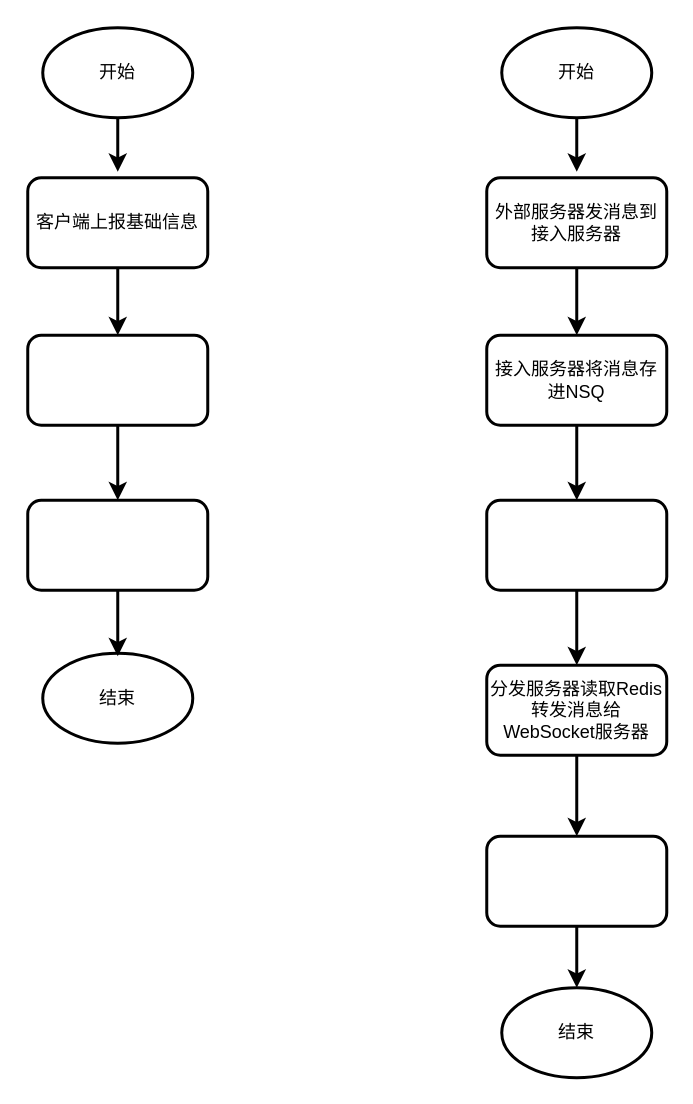
Image size: 693x1104. Some labels were removed from this diagram. Each missing label, with the centre of its shape:
NSQ将消息发到消息分发服务器: (x=576, y=544)
WebSocket服务器将消息推送到客户端: (x=576, y=880)
WebSocket服务器转存基础信息到Redis: (x=117, y=544)
负载均衡服务器转发请求: (x=117, y=379)
